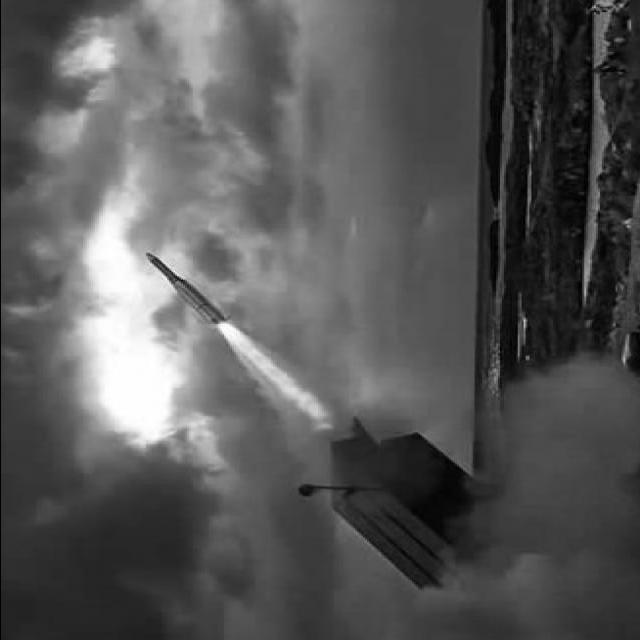Missile: (134, 247, 233, 331)
